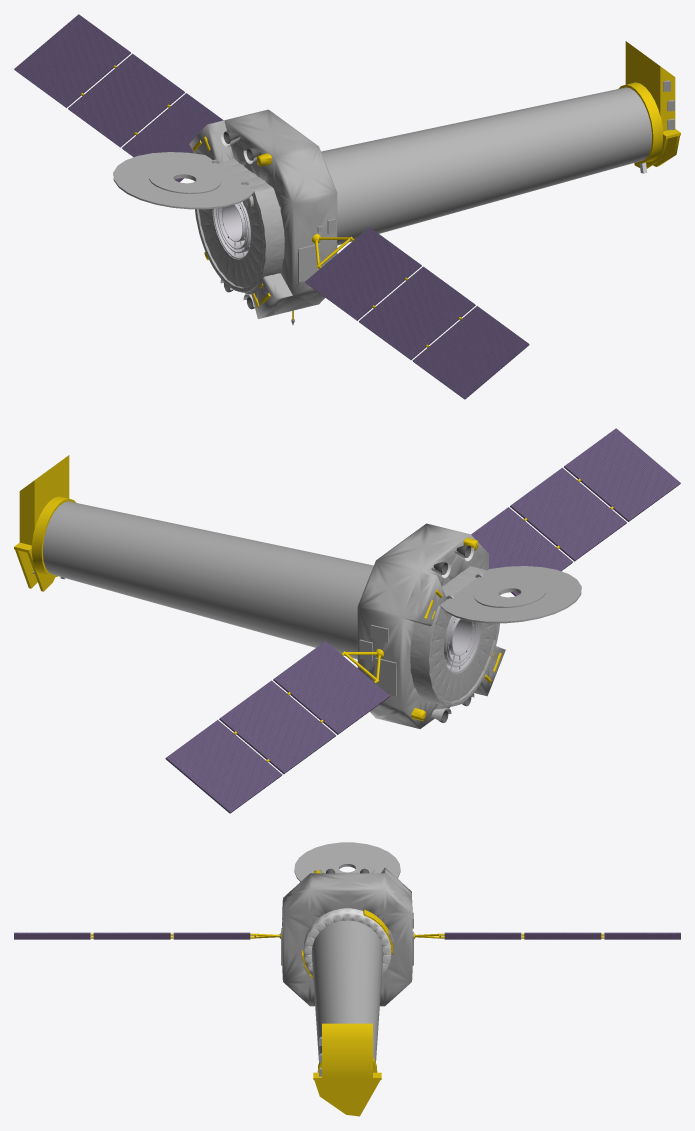
The model's file is Chandra X-ray Observatory.fbx.
3 renders of one model, top to bottom at view 1: azimuth 30°, elevation 25°; view 2: azimuth 150°, elevation 25°; view 3: azimuth 270°, elevation 25°, orthographic. The views are drawn at different scales.
Visible parts, largest first — view 1: Chandra_X_ray_Observatory, cube17, cube12, cube14, cube15, cube16, cube13, cube06; view 2: Chandra_X_ray_Observatory, cube14, cube15, cube17, cube12, cube13, cube16, cube03; view 3: Chandra_X_ray_Observatory, cube12, cube13, cube15, cube16, cube14, cube17.
Part boxes in pixels (x1,y1,x2,y2): Chandra_X_ray_Observatory: (113,41,679,318); cube17: (412,306,529,399); cube12: (68,53,184,147); cube14: (14,14,130,107); cube15: (358,266,475,359); cube16: (305,227,421,320); cube13: (122,93,223,182); cube06: (298,243,319,282); Chandra_X_ray_Observatory: (15,455,581,728); cube14: (165,720,282,813); cube15: (510,467,626,561); cube17: (564,428,680,521); cube12: (219,680,336,773); cube13: (273,641,389,734); cube16: (471,507,572,596); cube03: (375,658,396,696); Chandra_X_ray_Observatory: (282,842,412,1116); cube12: (524,932,601,939); cube13: (444,932,521,939); cube15: (93,932,170,939); cube16: (173,932,250,939); cube14: (604,932,680,939); cube17: (14,932,90,939).
Bounding box in the file's own units: 536 × 181 × 782.
Materials: 8 (1 with a texture image).
